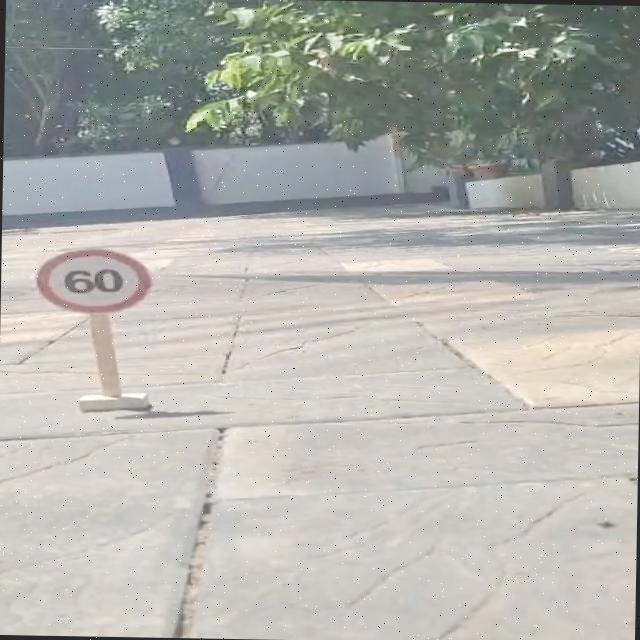Speed60: (9, 238, 175, 324)
